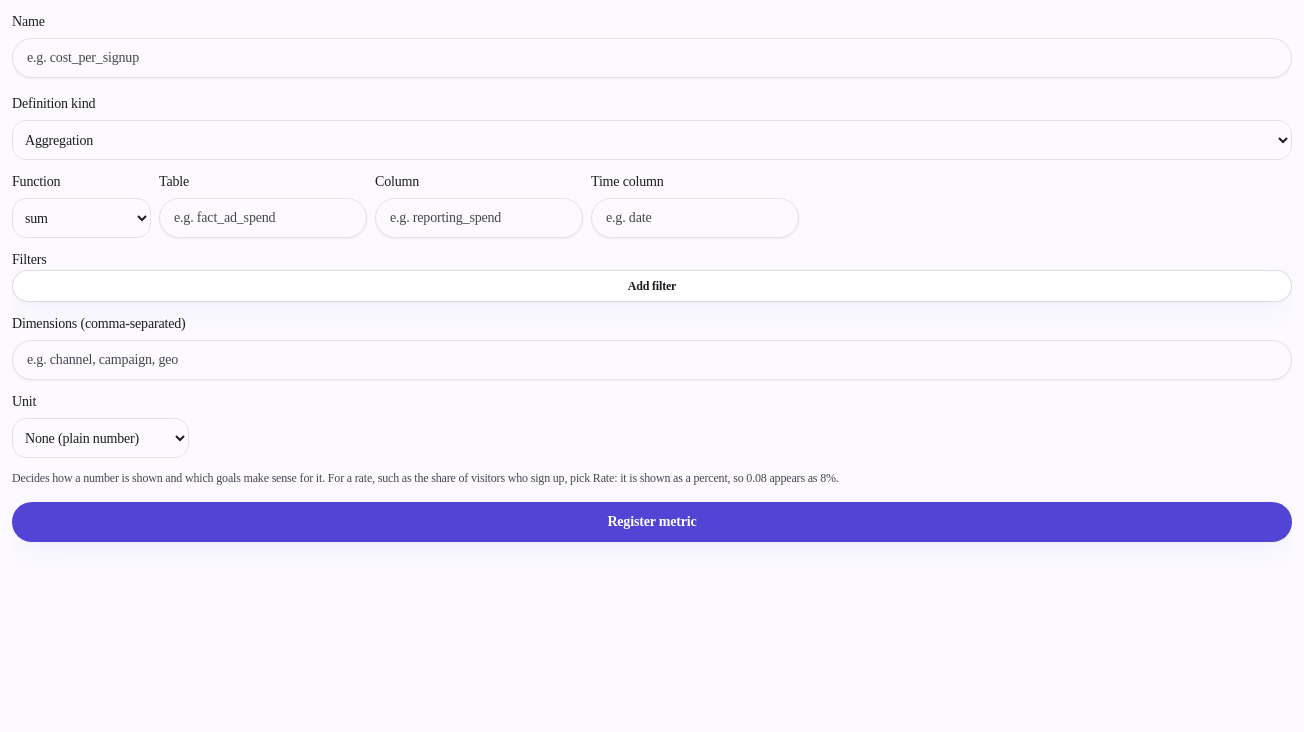
Scenario: RegisterMetricDefForm › leads server validation reasons with a plain sentence saying nothing was saved
Type "ad_spend" into the field labelled "Name". click: (652, 58)
box: [12,38,1292,78]
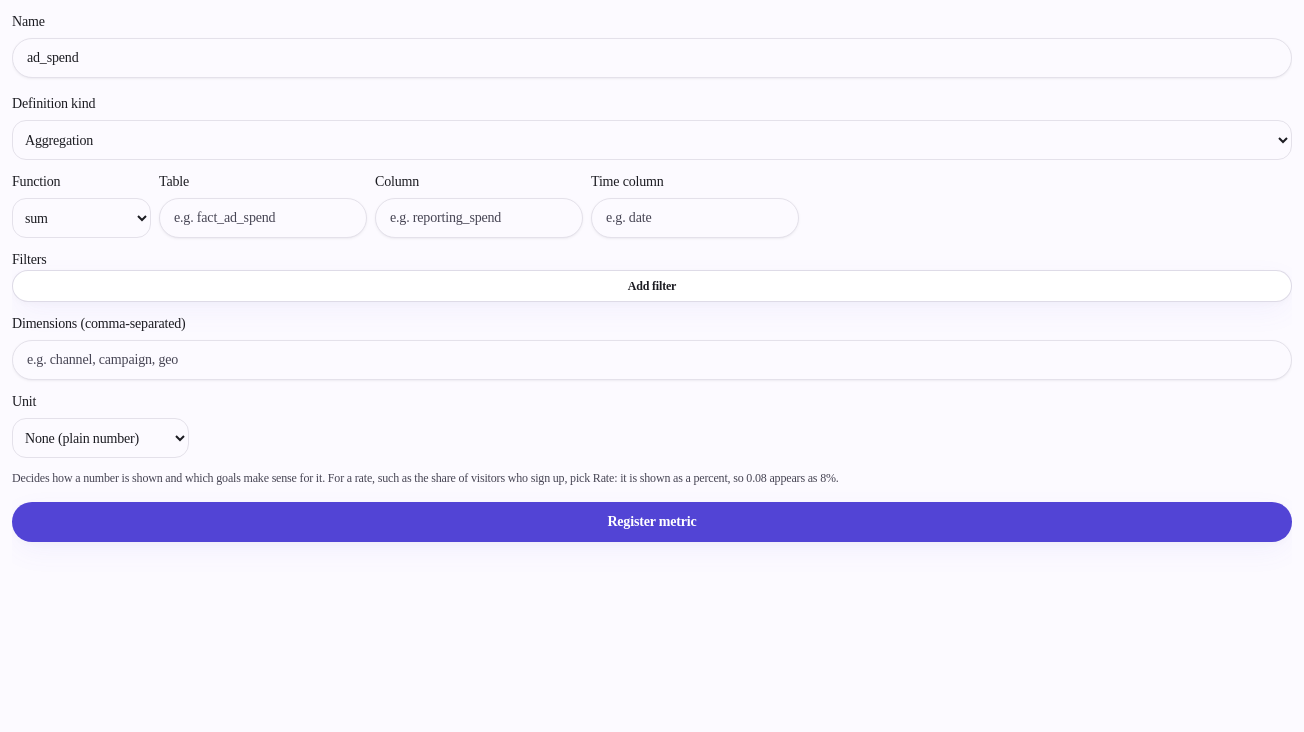
Click the button "Register metric". click: (652, 522)
box: [12,502,1292,542]
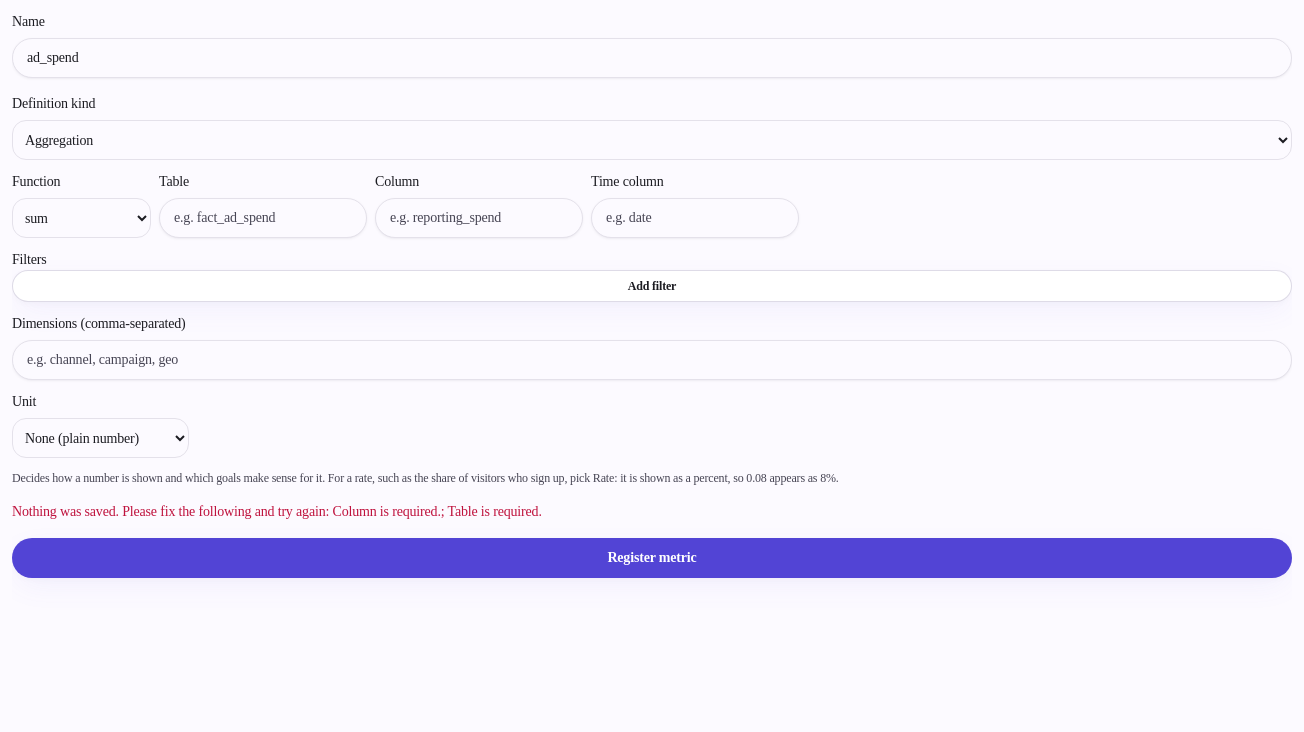
Expected: the message shows "Nothing was saved. Please fix the following and try again: Column is required.; Table is required.", [12,504,542,519]
